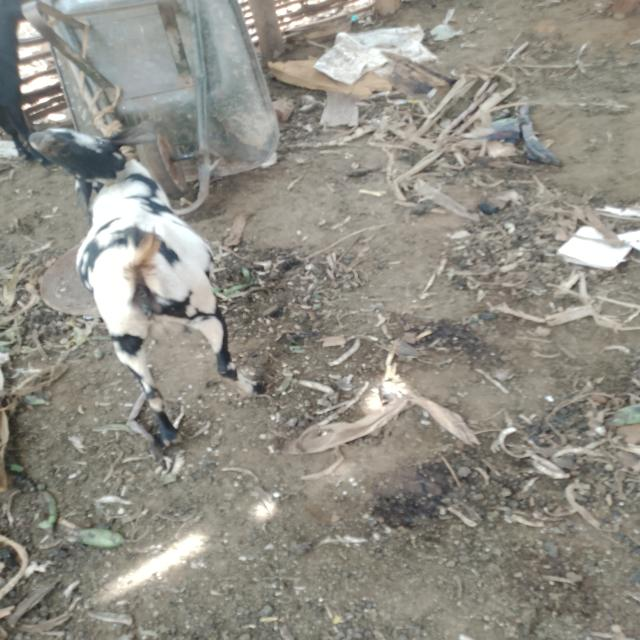goat: (0, 85, 326, 503)
